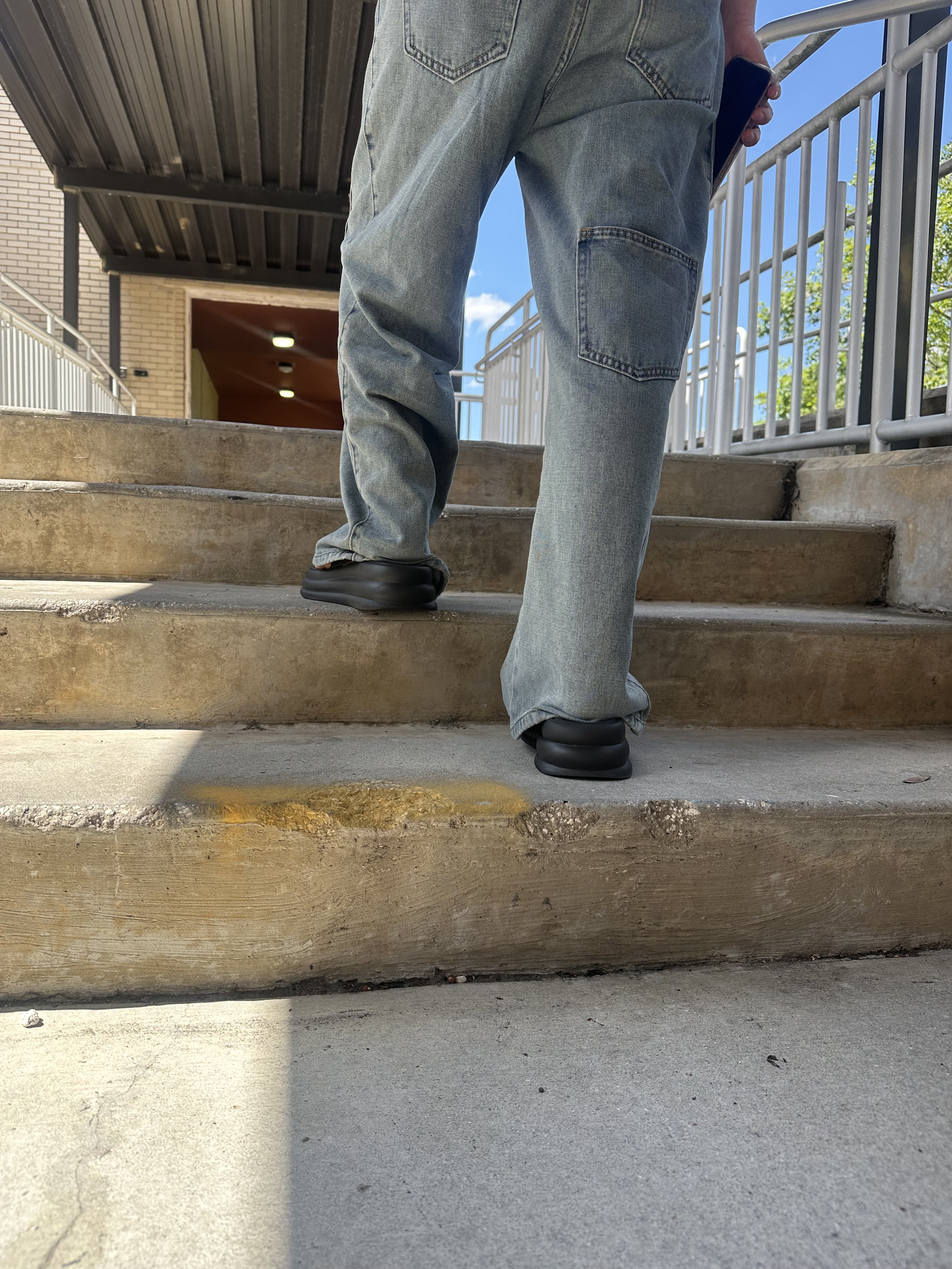stairs: (1, 408, 952, 1005)
